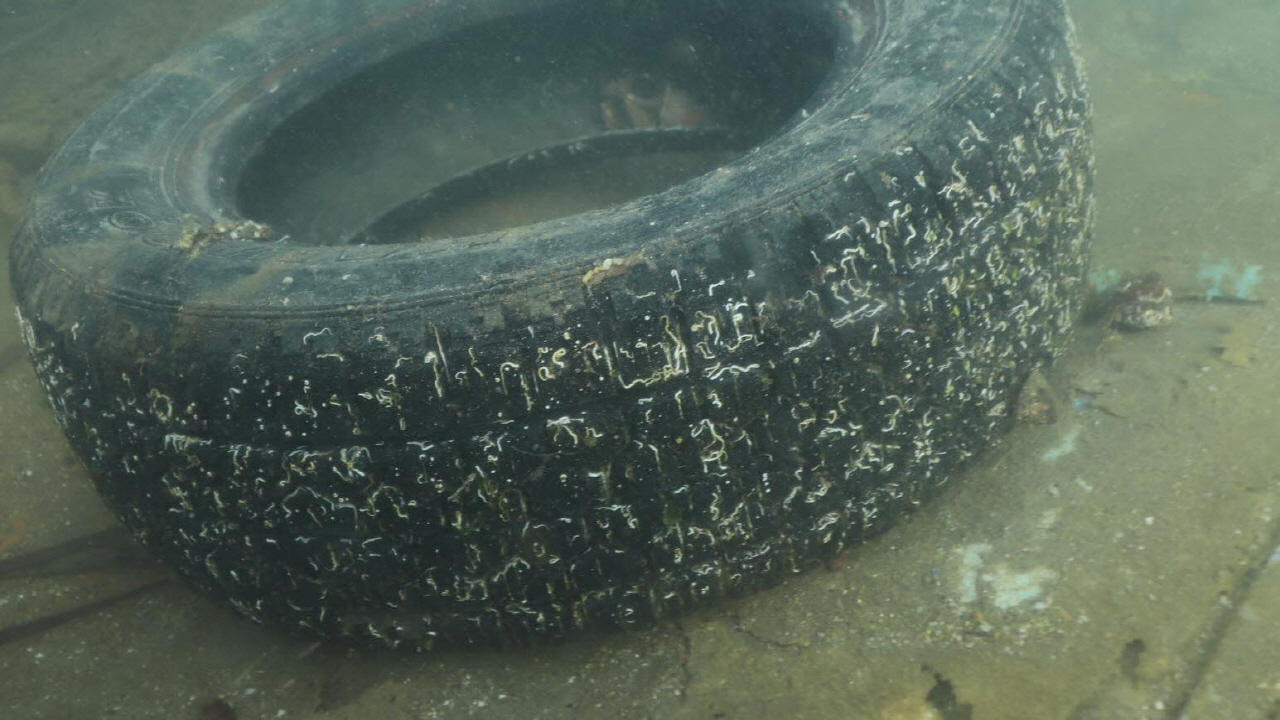tire: (6, 0, 1099, 654)
